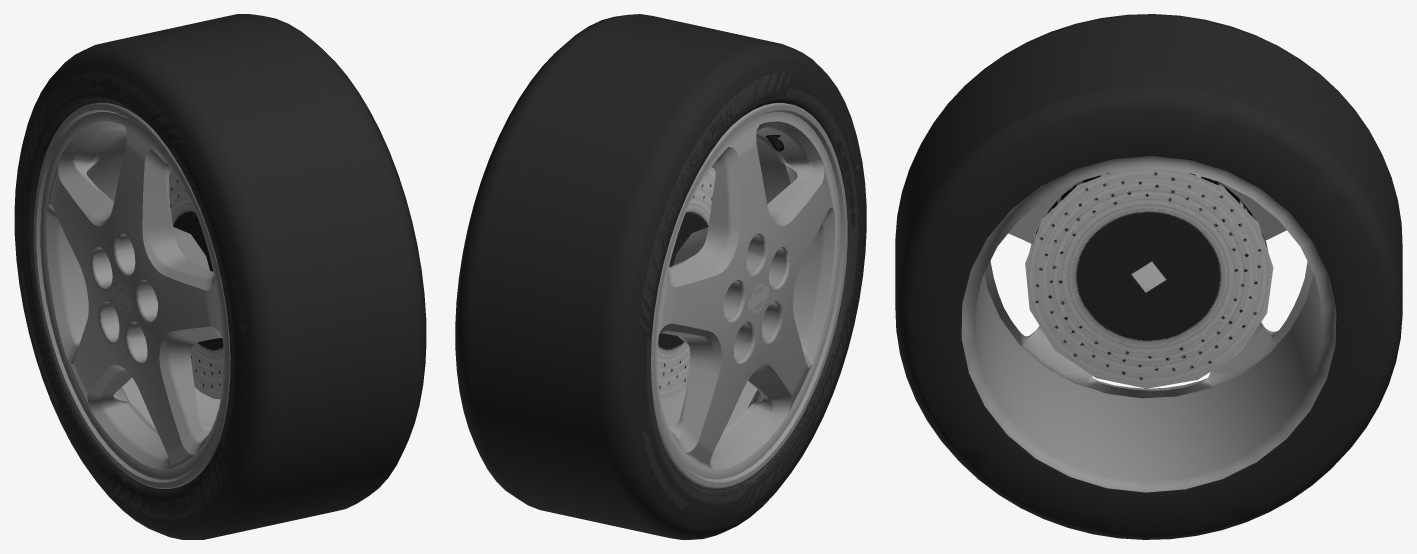
The model's file is tire_br-bXnKbJTM.glb.
The picture shows the model from 3 angles, left to right: view 1: azimuth 30°, elevation 25°; view 2: azimuth 150°, elevation 25°; view 3: azimuth 270°, elevation 25°; orthographic projection.
Visible parts, largest first — view 1: wheela:polySurface484, M_Rim_Main_Max2; view 2: wheela:polySurface484, M_Rim_Main_Max2, M_RimBadge_Max2; view 3: wheela:polySurface484, M_Rim_Main_Max2.
Part boxes in pixels (<box>): wheela:polySurface484: <box>14,14,426,539</box>; M_Rim_Main_Max2: <box>33,102,230,488</box>; wheela:polySurface484: <box>455,14,866,539</box>; M_Rim_Main_Max2: <box>651,103,847,488</box>; M_RimBadge_Max2: <box>748,135,784,313</box>; wheela:polySurface484: <box>895,14,1402,539</box>; M_Rim_Main_Max2: <box>961,156,1336,492</box>.
Size of the model in its own units: 0.4505 by 1.02 by 1.01.
3 materials, 2 textured.
